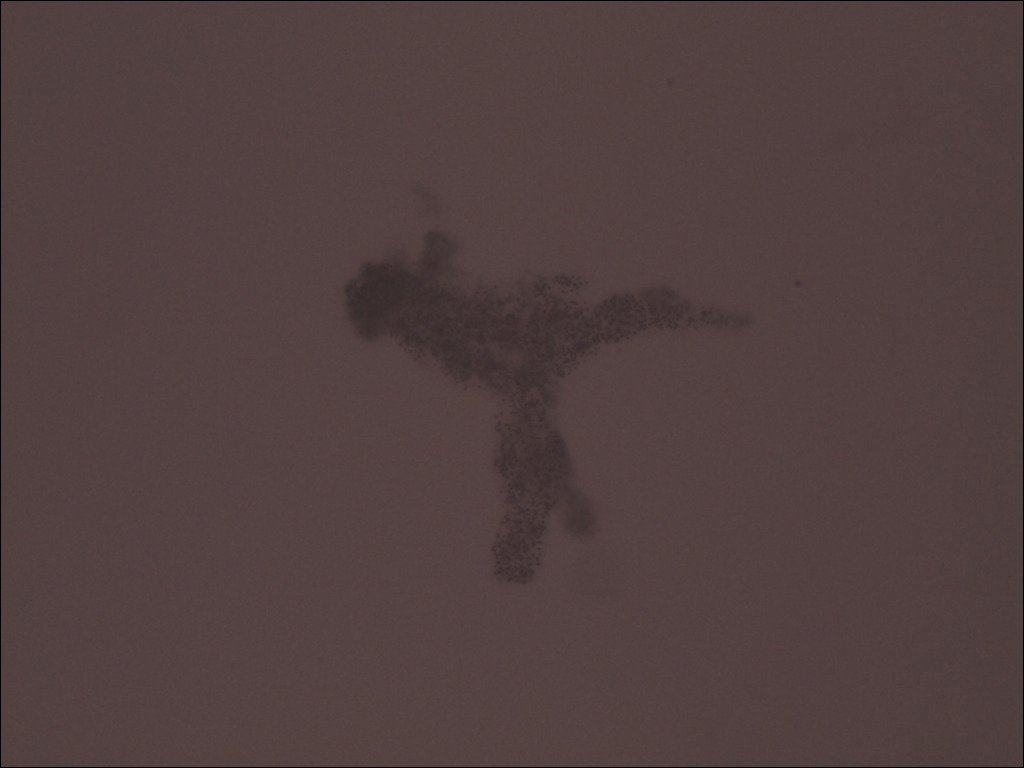amoeba: (331, 224, 781, 601)
